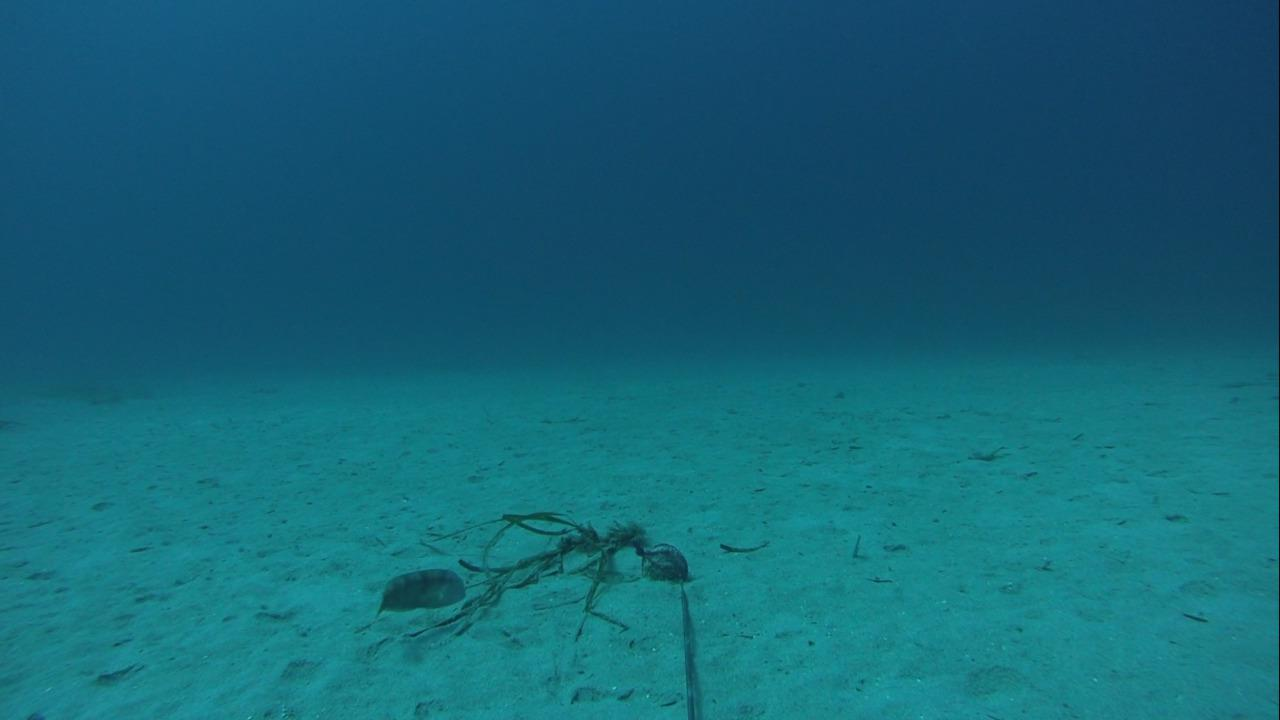raor: (373, 567, 471, 616)
